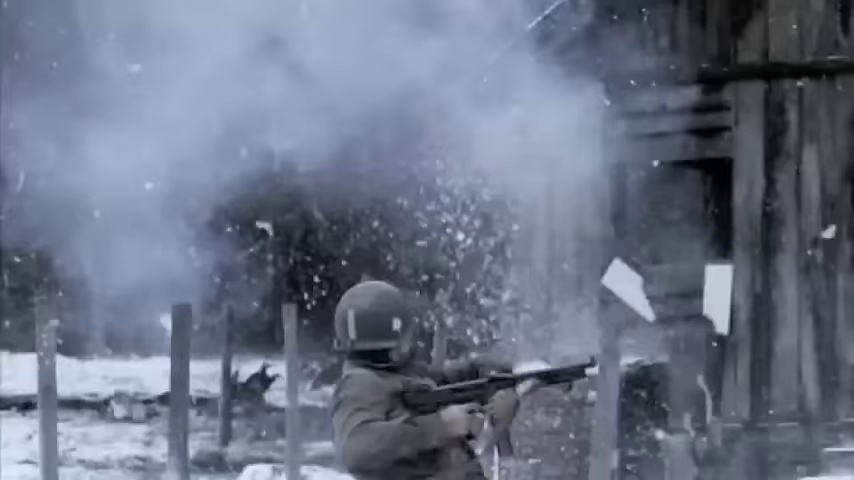gun: (390, 349, 597, 458)
p_w_gun: (330, 273, 597, 480)
